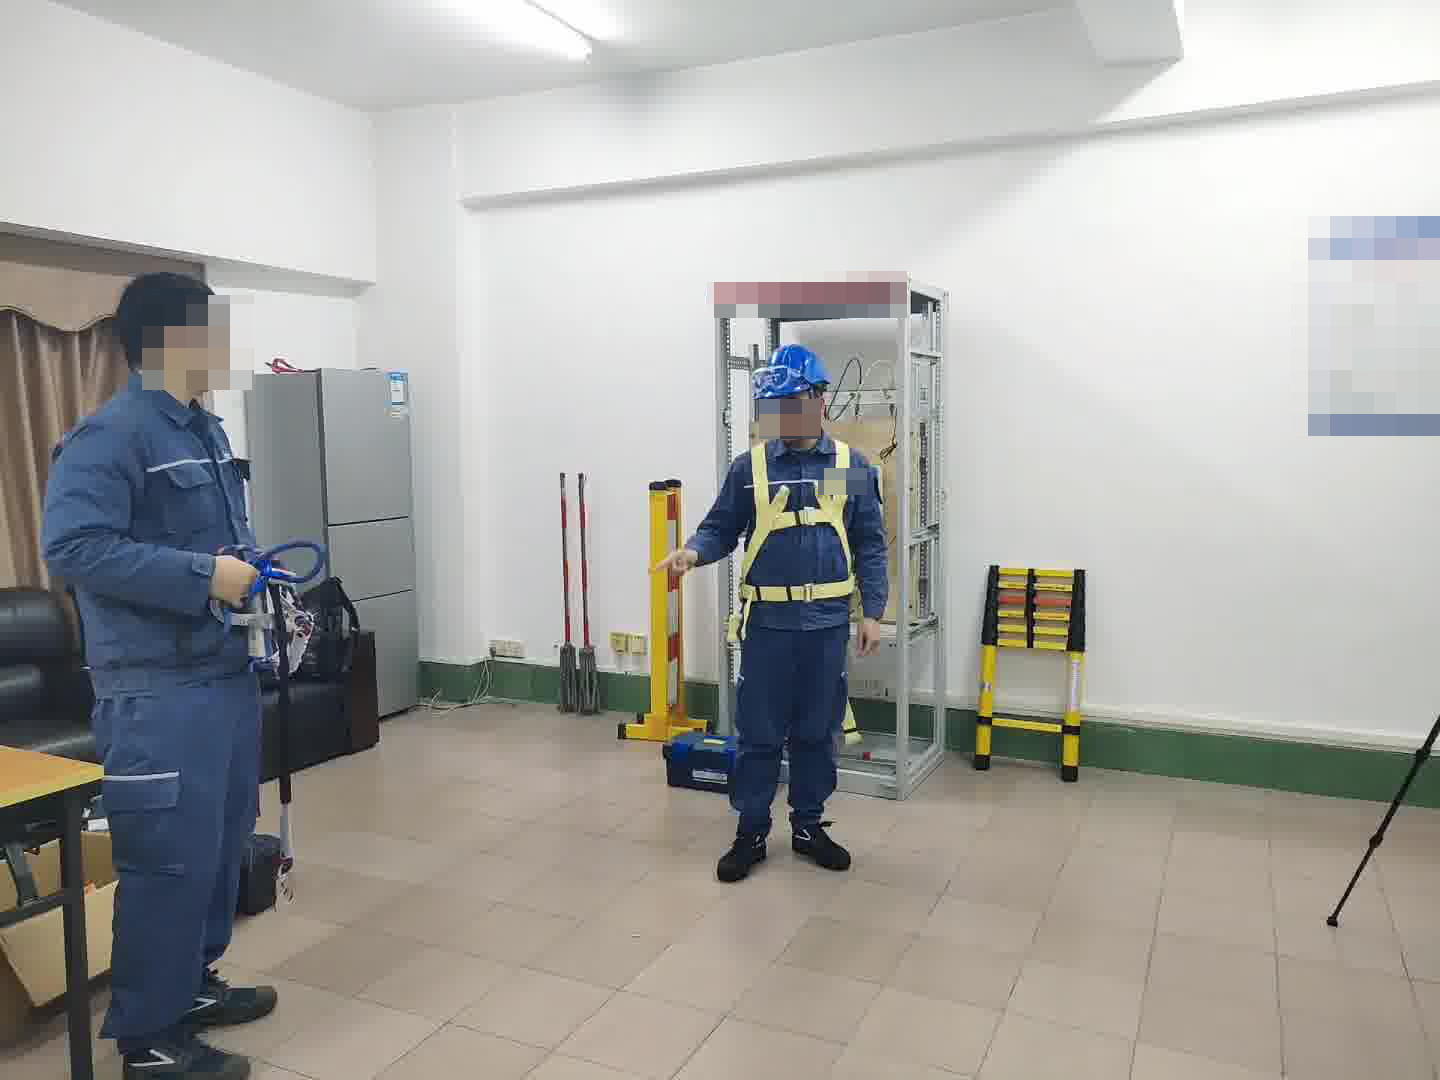downsuit: (93, 690, 264, 1047), (728, 626, 852, 815)
halt: (754, 342, 835, 444)
hand: (205, 546, 263, 610), (853, 613, 884, 661), (647, 551, 701, 577)
inear: (807, 389, 828, 436)
noear: (155, 322, 201, 378)
person: (36, 264, 326, 1080), (648, 341, 894, 885)
safebelt: (731, 438, 871, 755)
unhalt: (117, 273, 237, 402)
upsuit: (43, 386, 258, 690), (682, 435, 889, 621)
